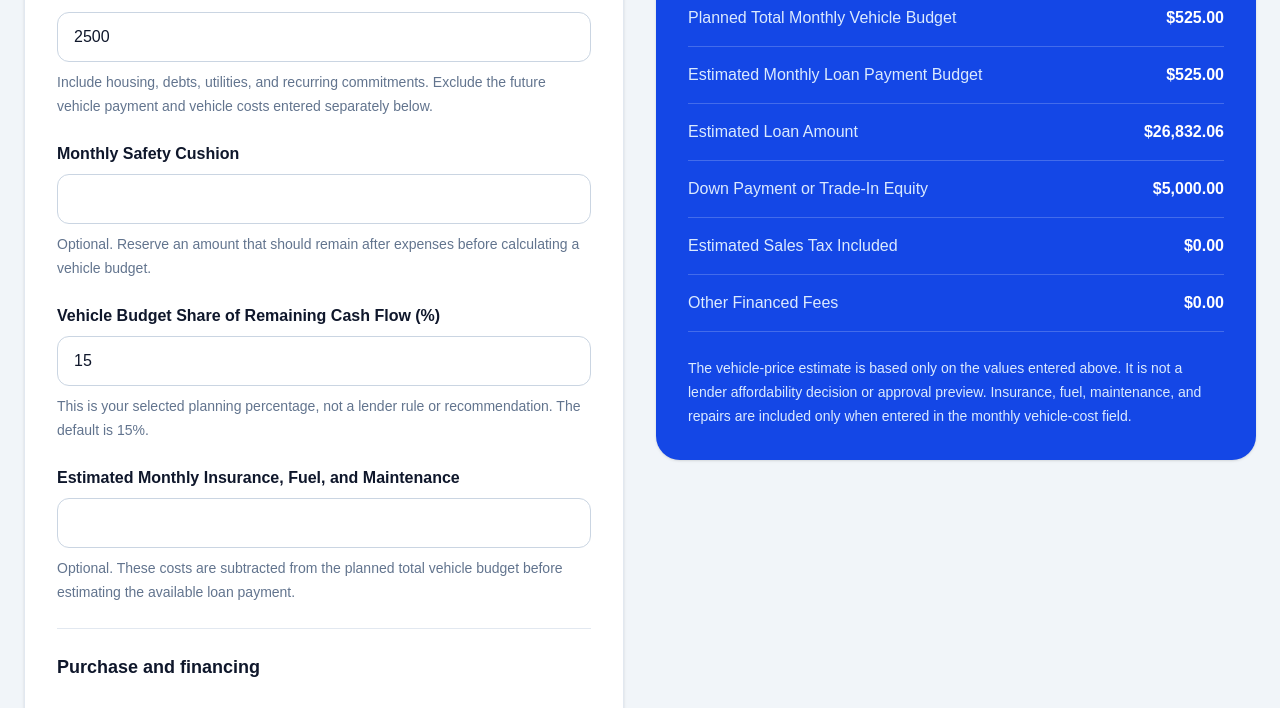
Test: CarAffordabilityCalculator › rejects a vehicle budget percentage above 100 percent
(page scrolled)
Replace the text in the number field labelled "Vehicle Budget Share of Remaining Cash Flow (%)" with "101" at {"x": 324, "y": 360}, box x1=57 y1=336 x2=591 y2=386
(page scrolled)
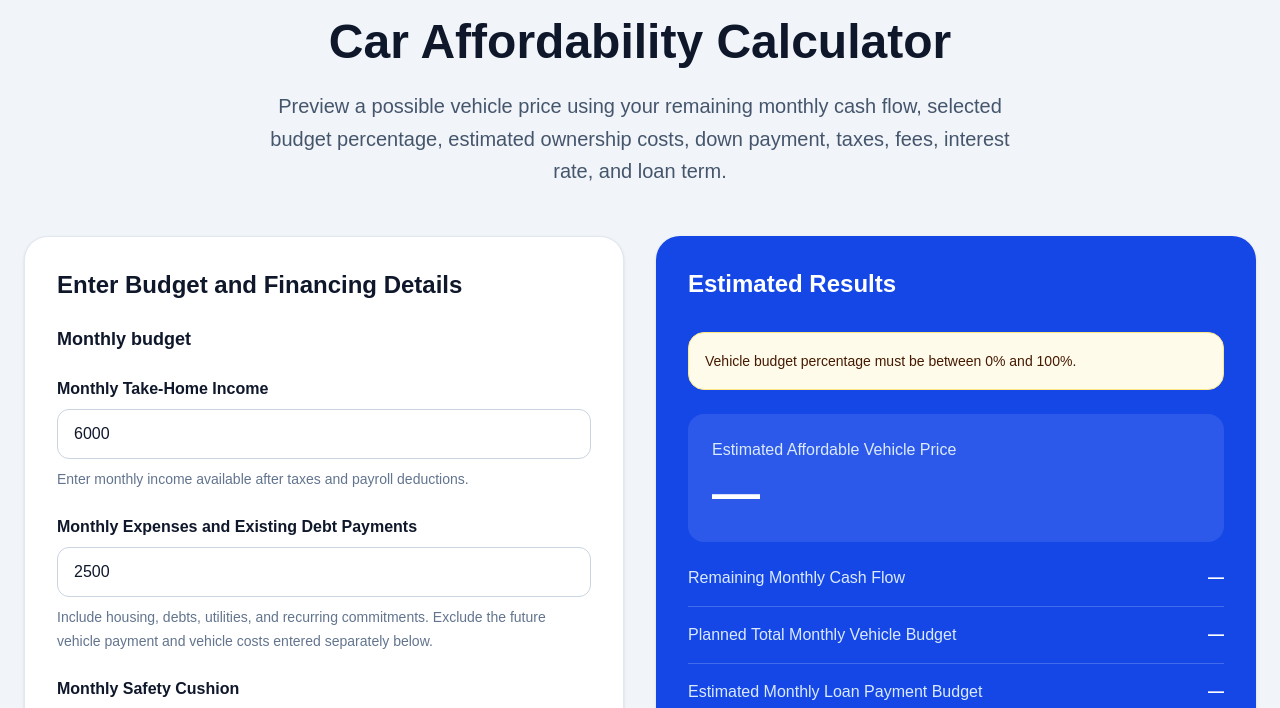
Expected: the text "Vehicle budget percentage must be between 0% and 100%." is shown, x1=688 y1=332 x2=1224 y2=390
